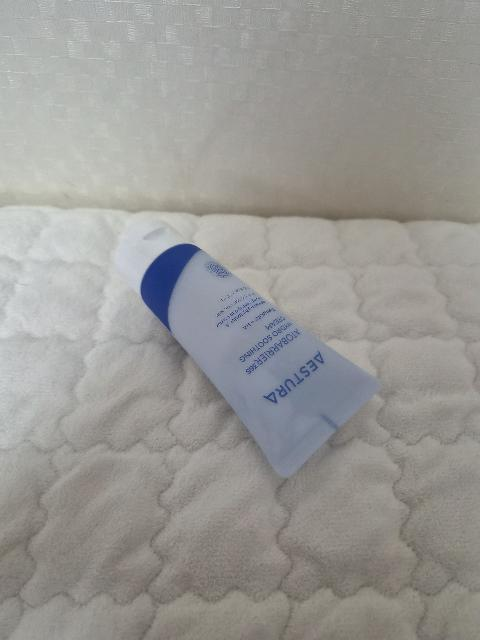handcream: (114, 219, 383, 478)
